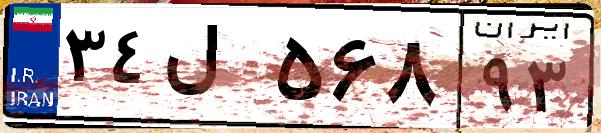3: (57, 26, 110, 100), (525, 38, 570, 115)
4: (110, 28, 158, 98)
5: (270, 28, 330, 110)
6: (330, 28, 385, 110)
8: (385, 28, 445, 110)
9: (475, 38, 525, 113)
ل: (158, 20, 270, 120)
